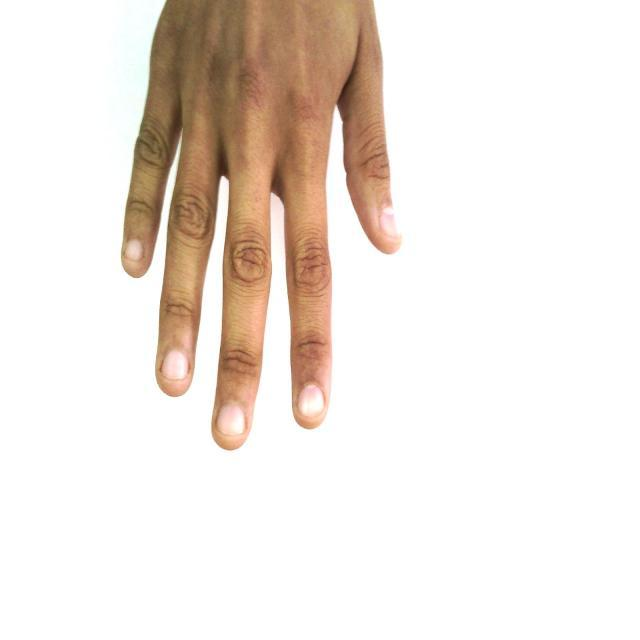Fingernail: (219, 404, 245, 435), (300, 385, 324, 418), (163, 351, 187, 380), (381, 208, 399, 238), (126, 240, 143, 260)
